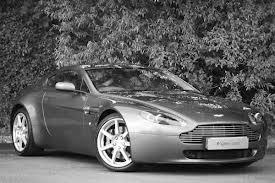car: (9, 62, 269, 172)
